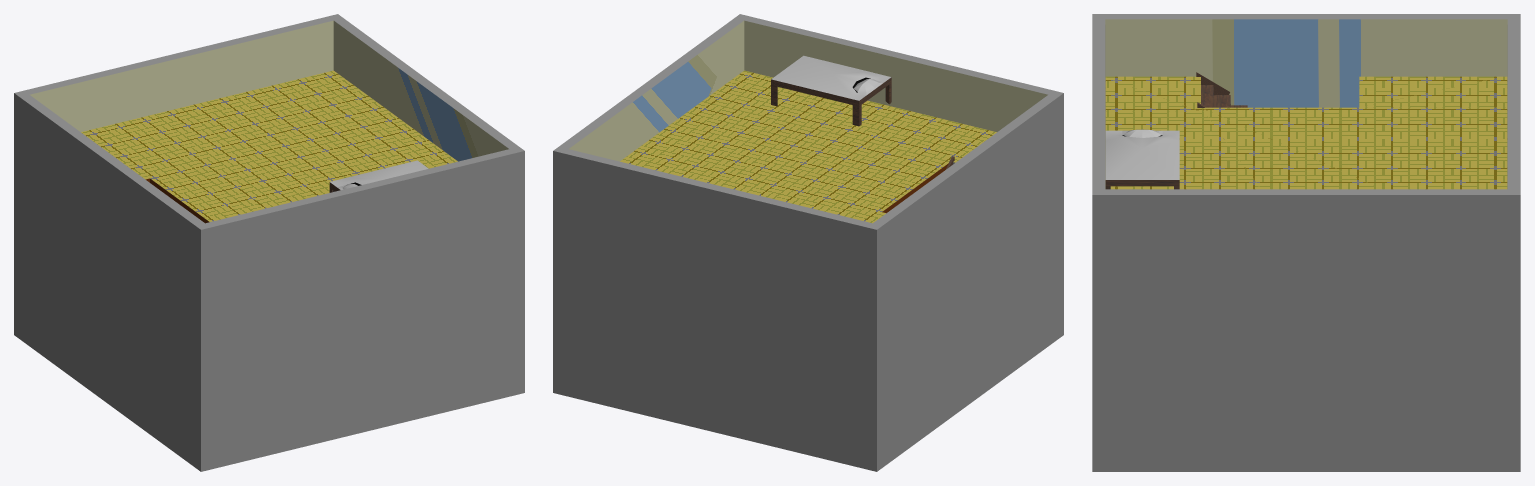
Rendered from pthouseind.FBX.
The picture shows the model from 3 angles, left to right: view 1: azimuth 30°, elevation 25°; view 2: azimuth 150°, elevation 25°; view 3: azimuth 270°, elevation 25°; orthographic projection. The views are drawn at different scales.
Visible parts, largest first — view 1: Box001, Box005, Box007; view 2: Box001, Box005, Box007; view 3: Box001, Box005, Box007, LTypeStair001.
Part boxes in pixels (left/top/right/bottom): Box001: left=14, top=14, right=524, bottom=471; Box005: left=81, top=70, right=457, bottom=223; Box007: left=329, top=160, right=428, bottom=192; Box001: left=553, top=14, right=1063, bottom=471; Box005: left=620, top=70, right=996, bottom=223; Box007: left=771, top=55, right=891, bottom=126; Box001: left=1092, top=14, right=1520, bottom=471; Box005: left=1105, top=76, right=1507, bottom=189; Box007: left=1105, top=129, right=1179, bottom=189; LTypeStair001: left=1196, top=72, right=1247, bottom=107.
Size of the model in its own units: 350 by 250 by 350.
21 materials, 4 textured.
